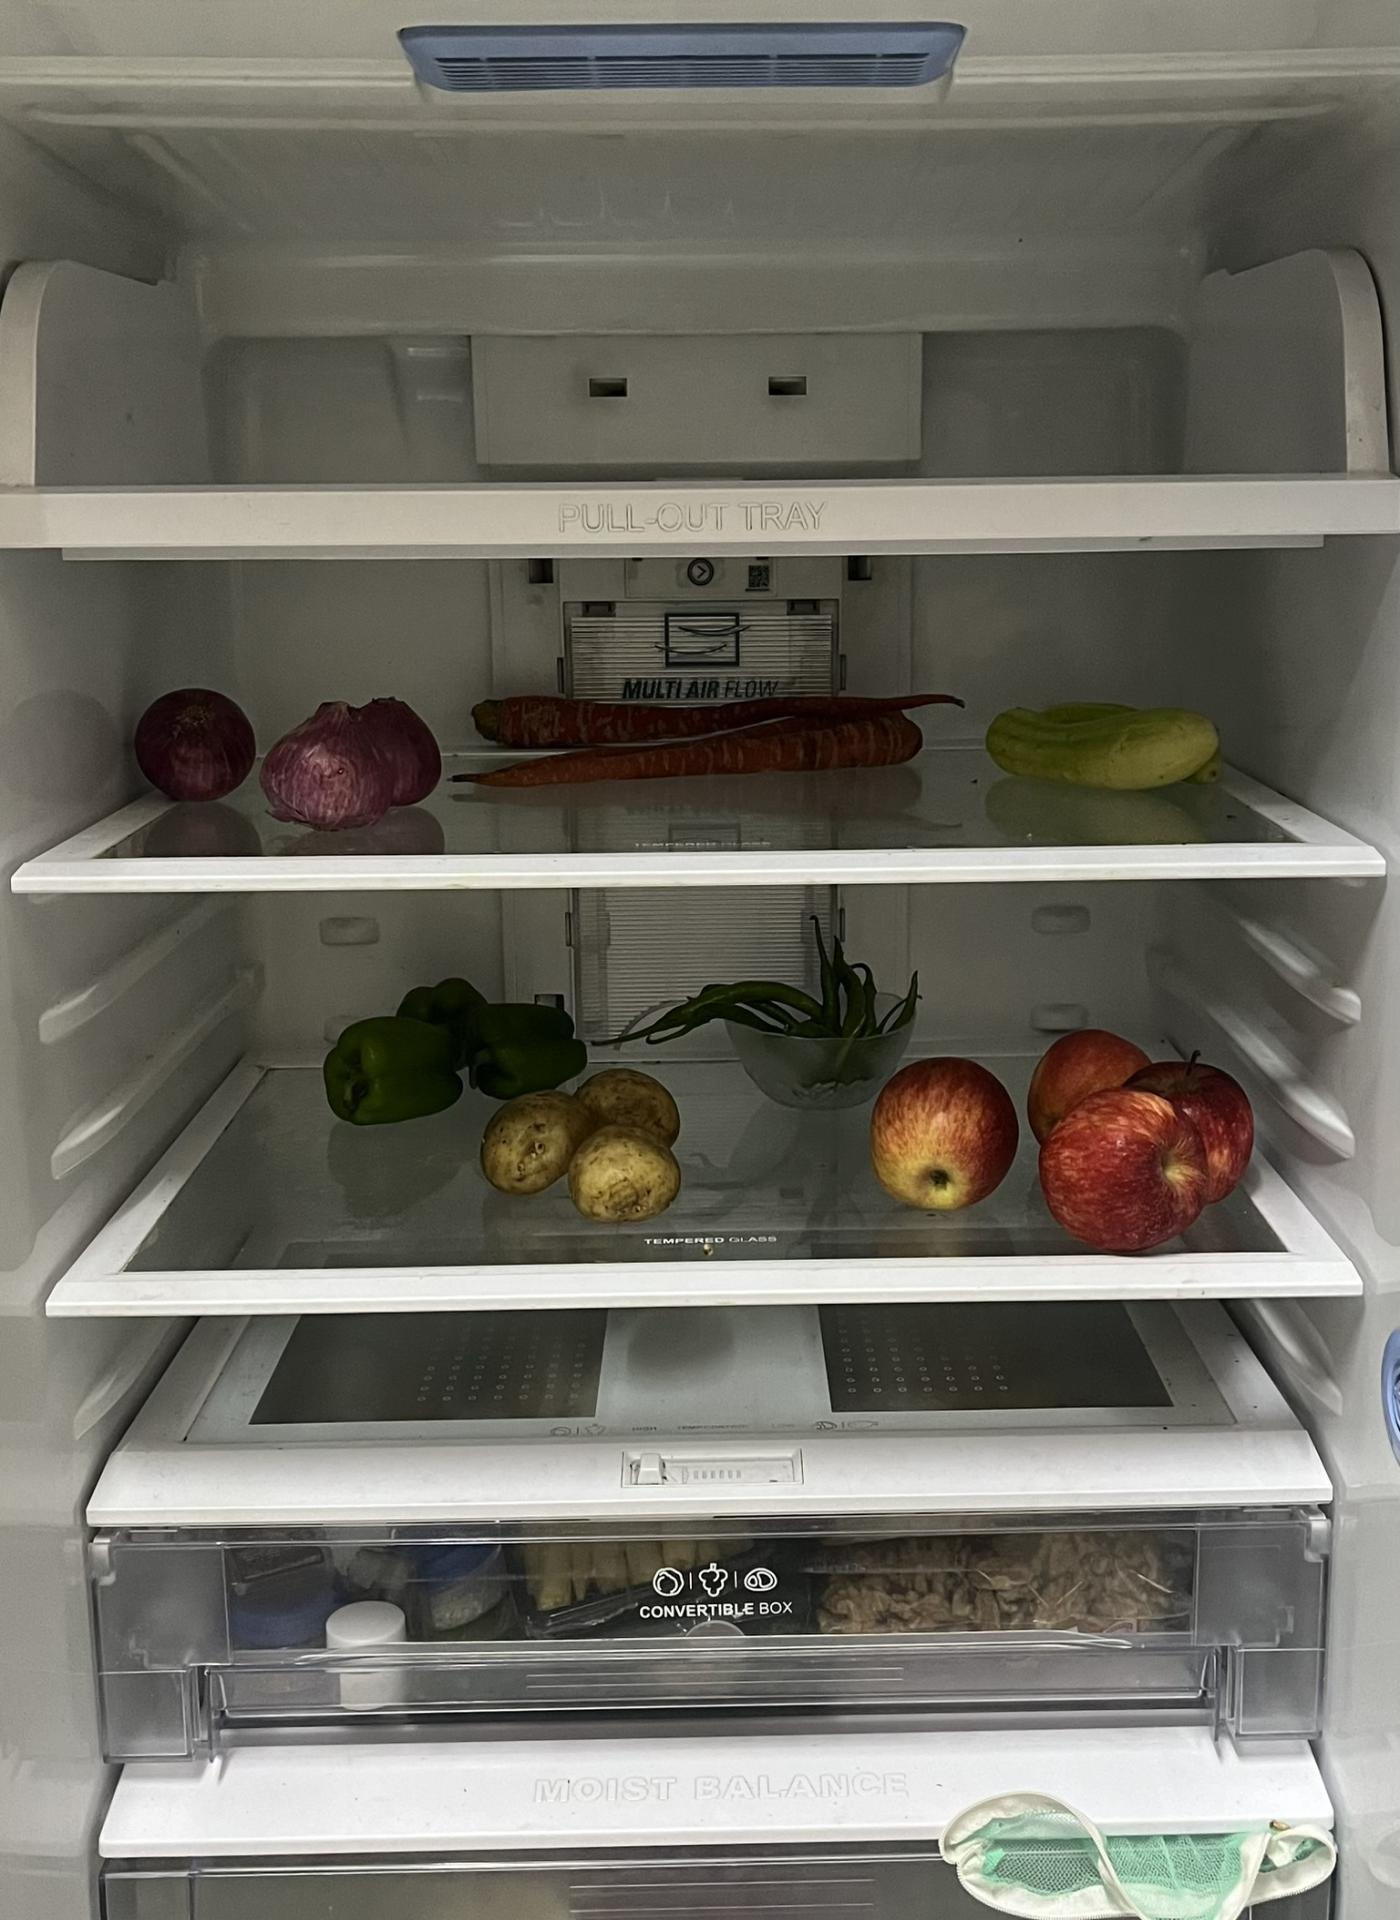apple: (877, 1024, 1264, 1254)
capsicum: (327, 984, 590, 1121)
carrots: (470, 689, 963, 800)
chillies: (616, 954, 915, 1093)
cucumber: (990, 693, 1235, 780)
onion: (264, 687, 449, 818), (137, 683, 261, 809)
potato: (485, 1073, 686, 1225)
